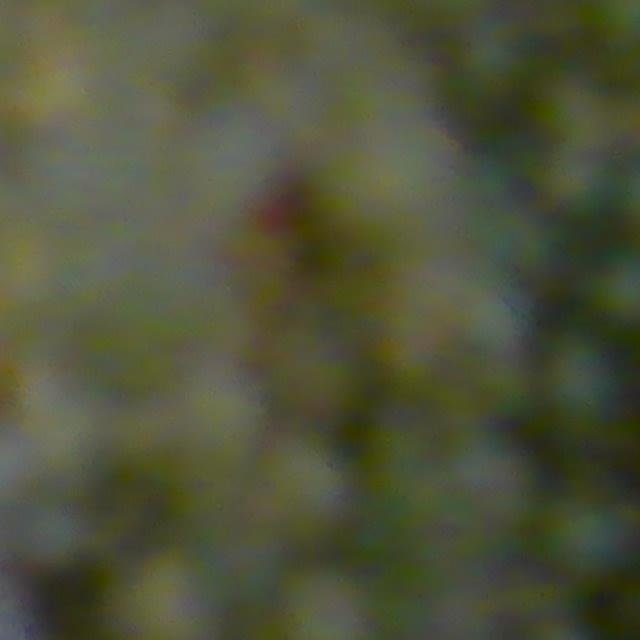SeaGrape: (545, 493, 640, 580), (273, 565, 383, 640), (541, 339, 624, 423)
